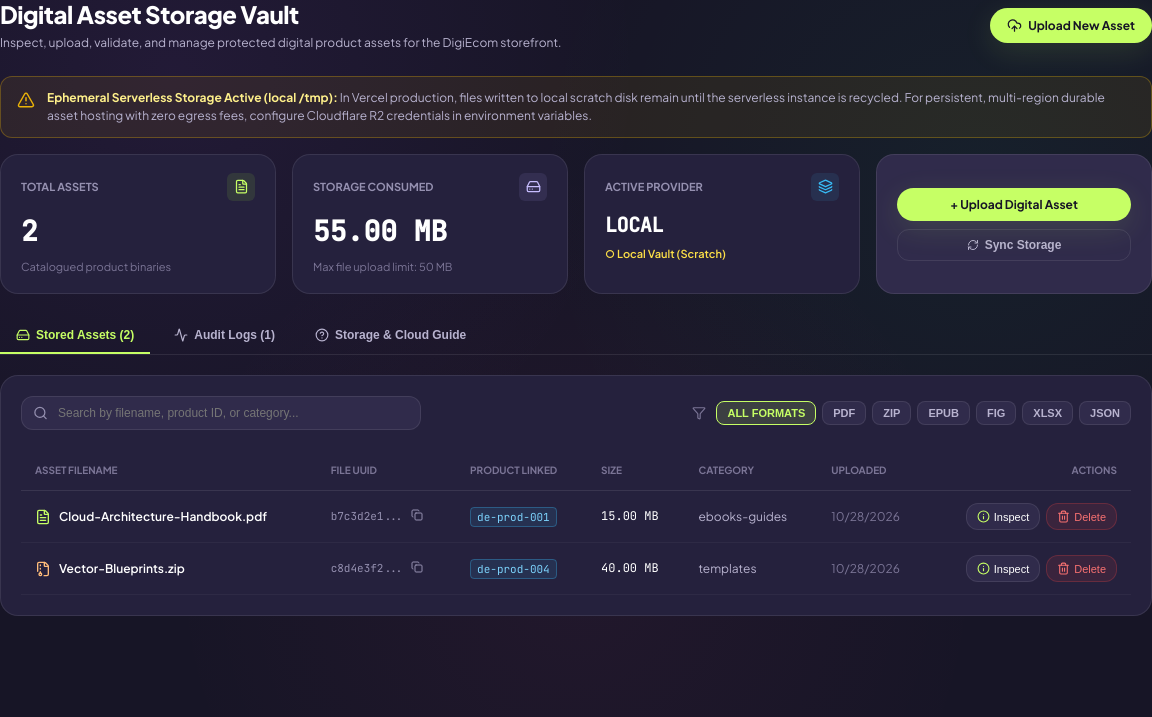
Scenario: Admin Storage Dashboard UI (Phase 3) › opens Metadata Drawer when clicking Inspect
Expected: the text "Cloud-Architecture-Handbook.pdf" is shown, [59,507,267,526]
What coordinates should you click on to do the following:
click the button with aria-label "Inspect metadata for Cloud-Architecture-Handbook.pdf"
I would click on:
 (1003, 517)
Its box is [966,503,1040,530].
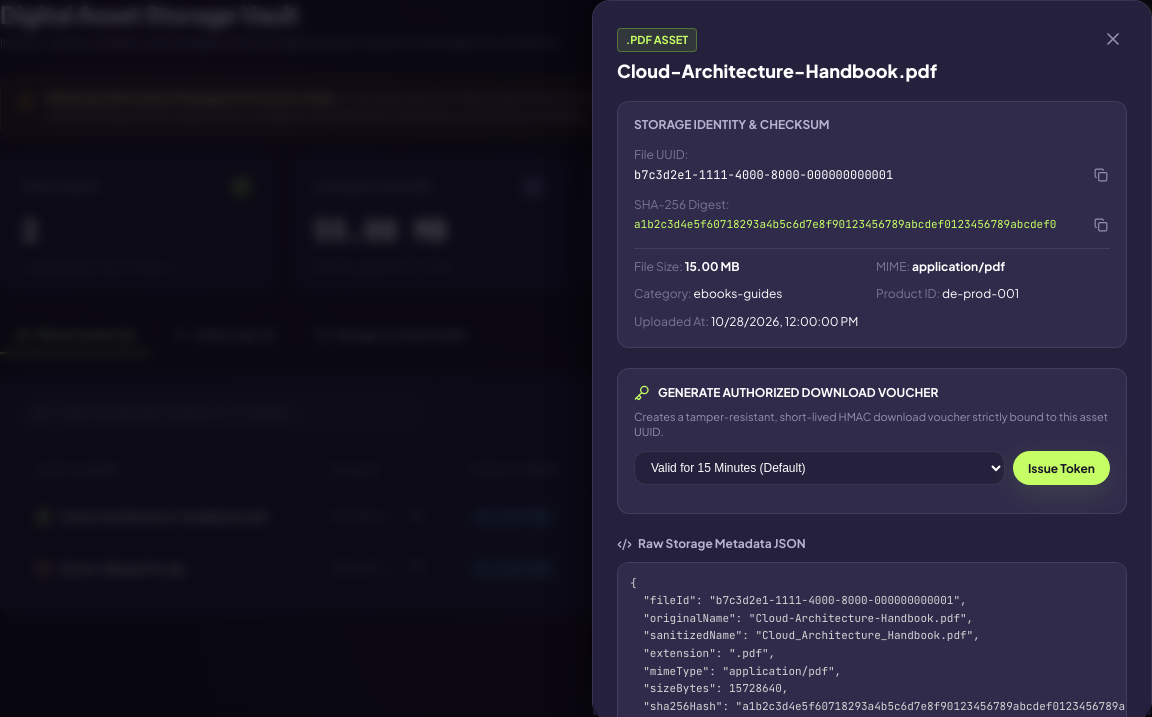
Now the heading "Storage Identity & Checksum" is shown, box [634,117,830,132]
Now the heading "Generate Authorized Download Voucher" is shown, box [658,386,938,400]
What coordinates should you click on to do the following:
click the button named "Close metadata drawer"
I would click on:
 (1113, 39)
Its box is [1099,25,1127,53].
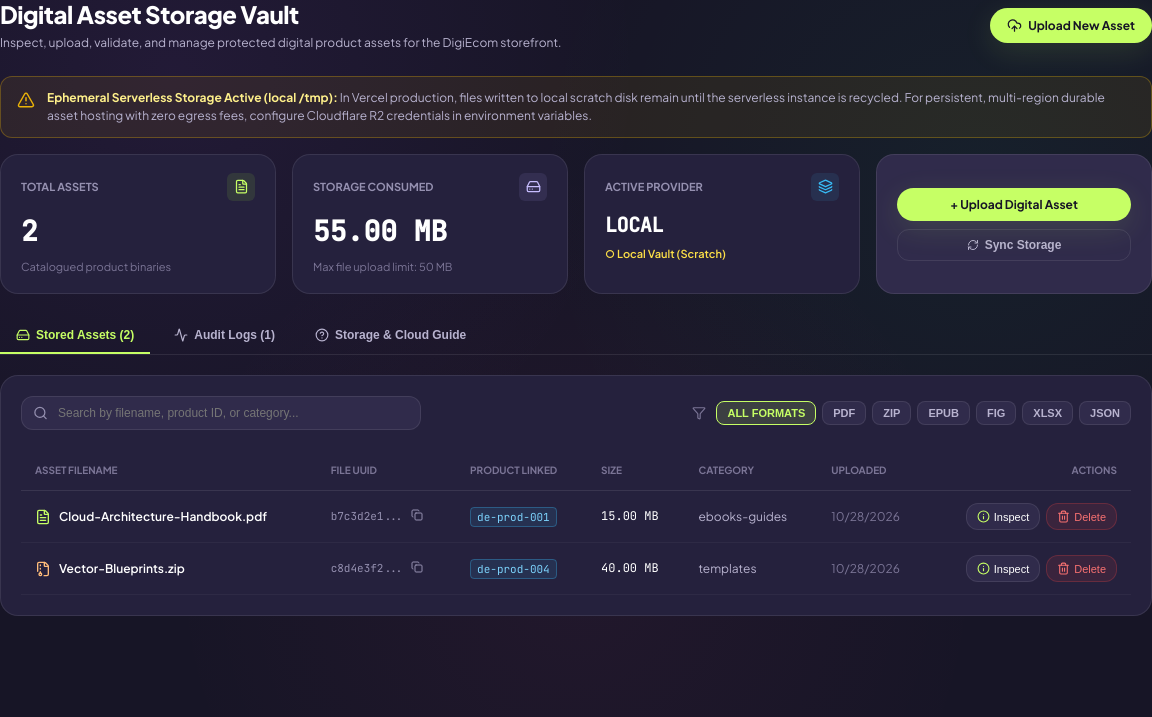
Now the heading "Storage Identity & Checksum" is gone
